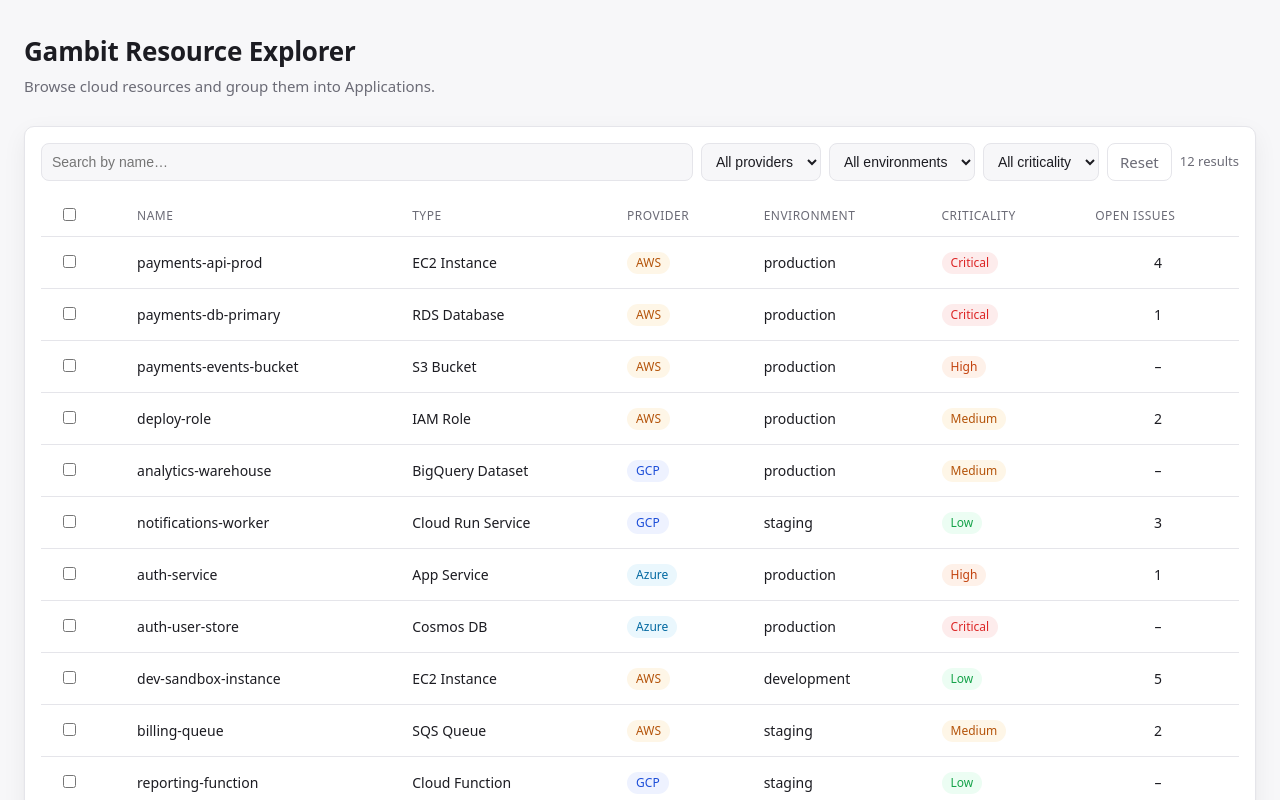
Test: Gambit Resource Explorer - main flows › searches the resources table by name
The image size is (1280, 800).
Expected: the text "payments-api-prod" is shown, [137, 253, 262, 272]
Expected: the text "auth-service" is shown, [137, 565, 218, 584]
Type "payments" into the field with placeholder "Search by name…" at (367, 162), box [41, 142, 693, 181]
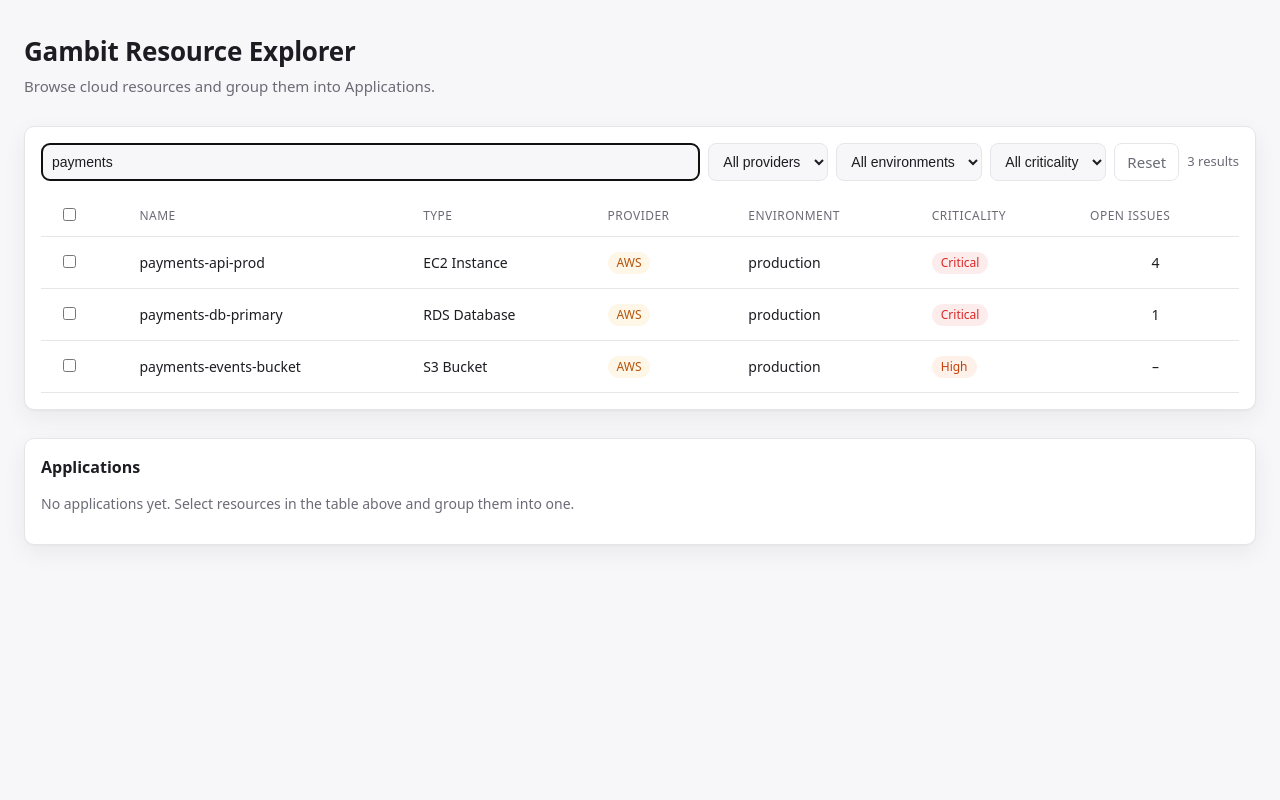
Expected: the text "payments-api-prod" is shown, [140, 253, 265, 272]
Now the text "3 results" is shown, box [1187, 152, 1239, 172]
Now the text "auth-service" is gone
